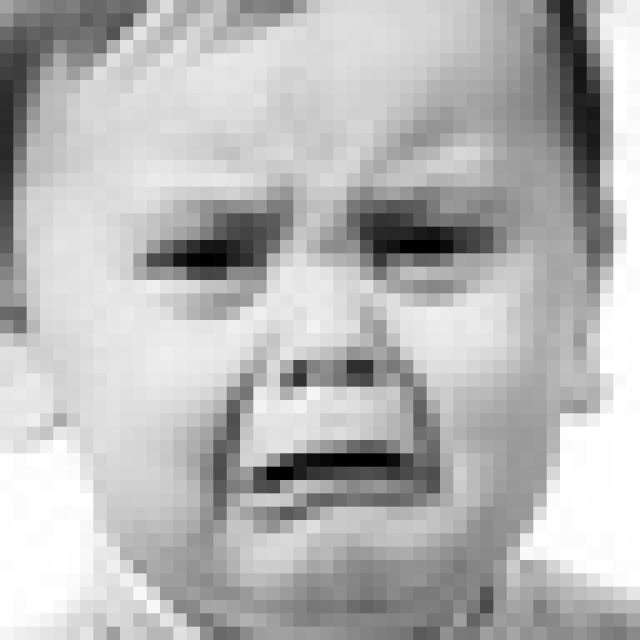sad: (135, 128, 530, 548)
